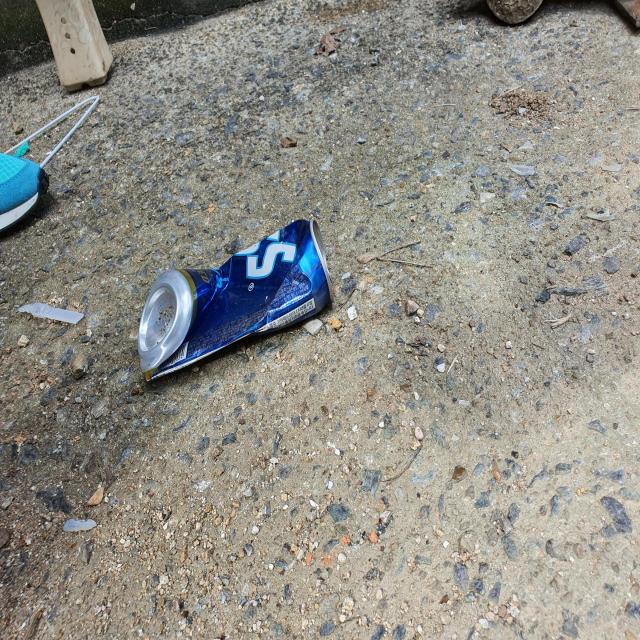can: (137, 219, 333, 380)
